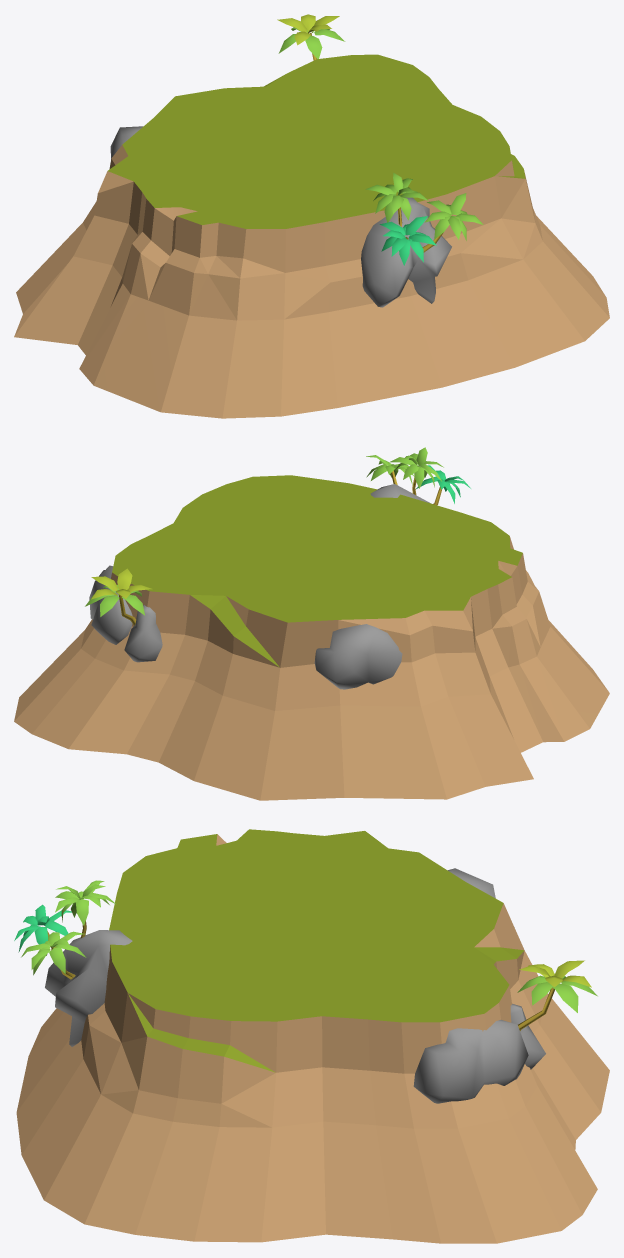
File: Islands_05.FBX
3 renders of one model, top to bottom at view 1: azimuth 30°, elevation 25°; view 2: azimuth 150°, elevation 25°; view 3: azimuth 270°, elevation 25°, orthographic. The views are drawn at different scales.
Visible parts, largest first — view 1: Islands_05; view 2: Islands_05; view 3: Islands_05.
Part boxes in pixels (box(x1,y1,x2,y2)): Islands_05: box(14, 14, 609, 418); Islands_05: box(14, 447, 609, 800); Islands_05: box(14, 829, 609, 1243).
Size of the model in its own units: 6341 by 2299 by 5625.
